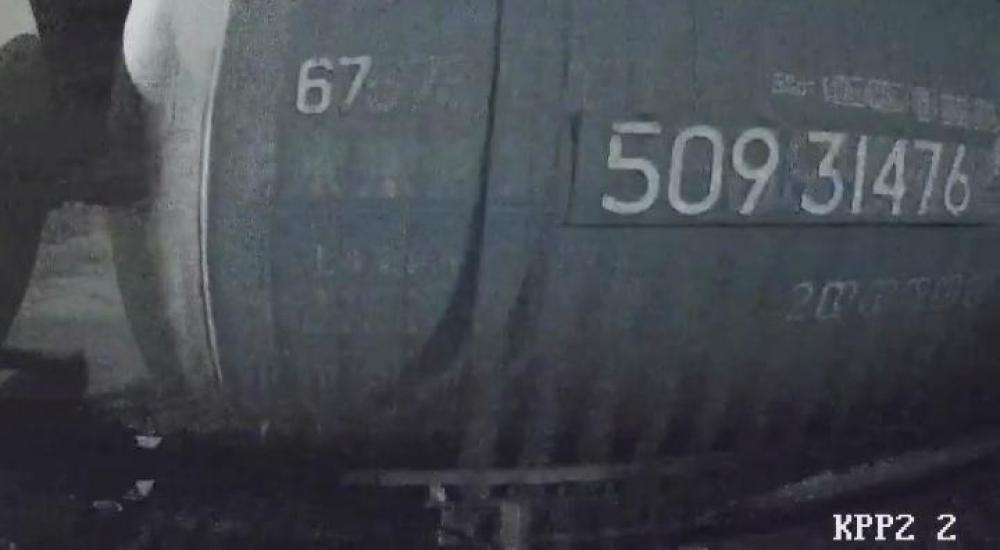Wagon-number: (594, 108, 976, 226)
